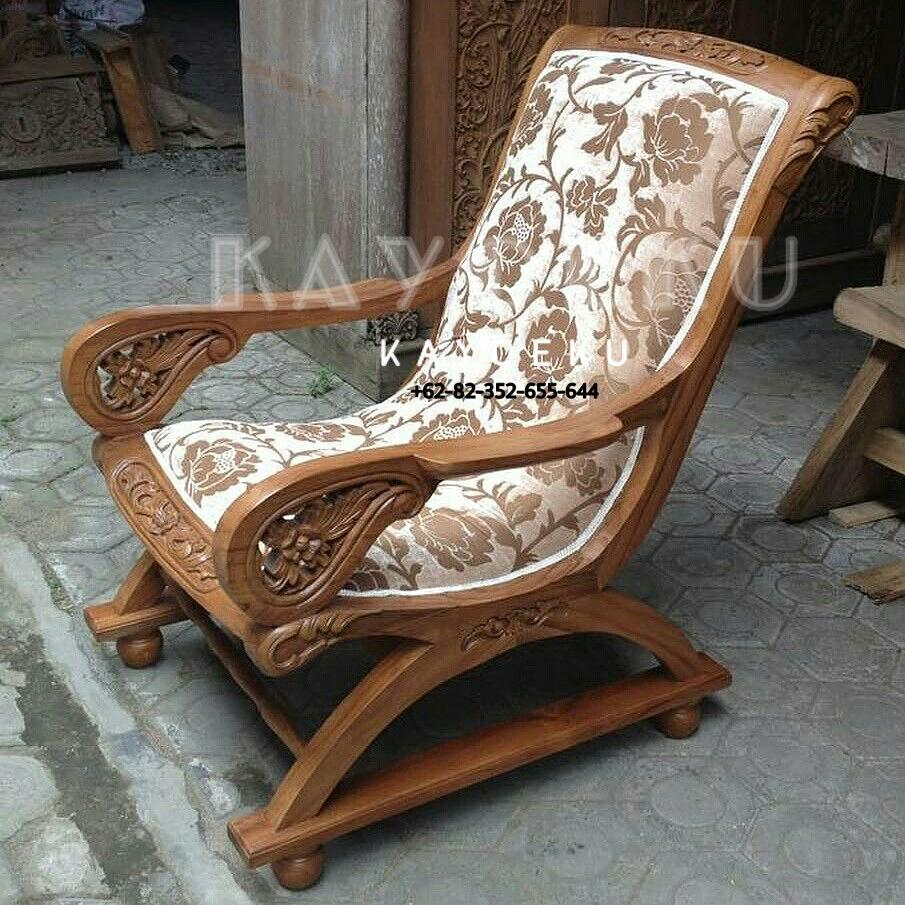Carving Chair: (67, 51, 837, 840)
